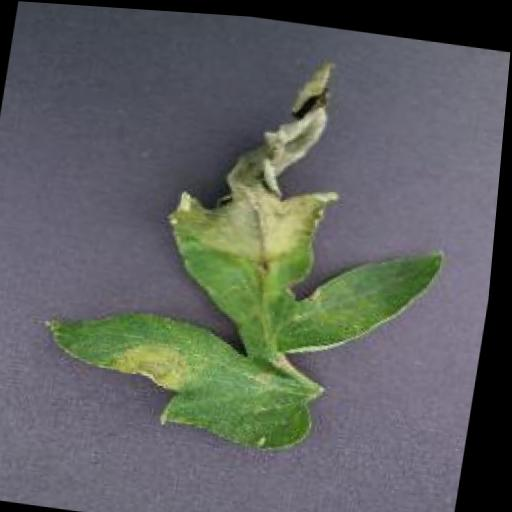Late Blight: (33, 25, 475, 466)
